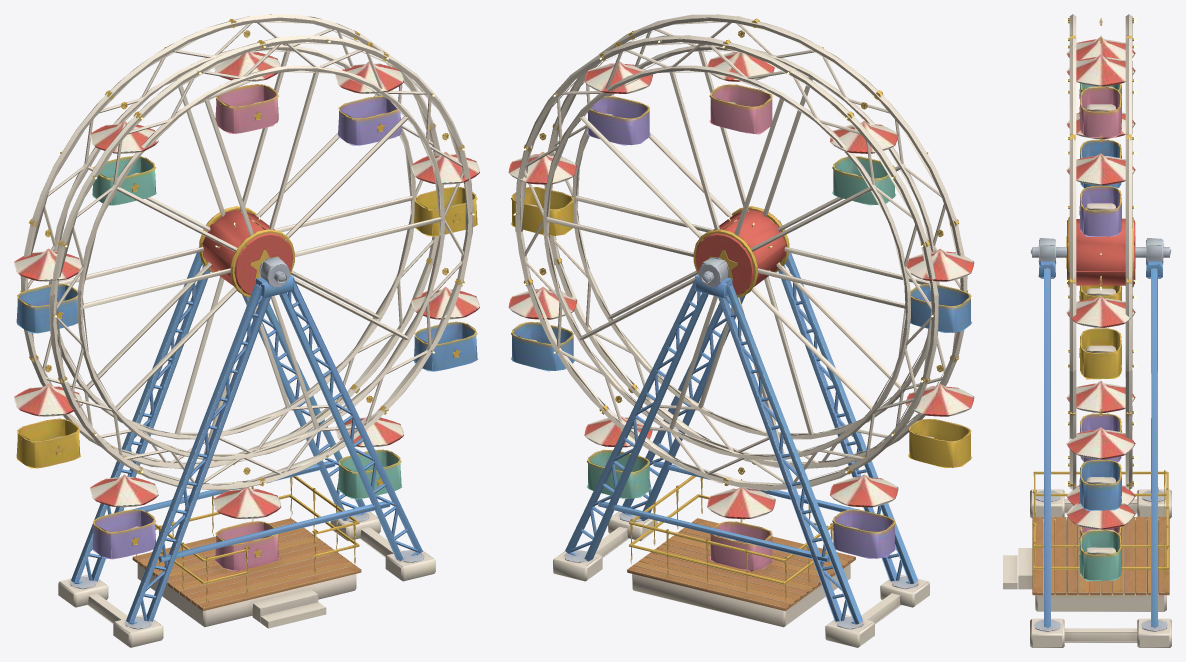
File: noria.glb
3 views of the same model, side by side, from view 1: azimuth 30°, elevation 25°; view 2: azimuth 150°, elevation 25°; view 3: azimuth 270°, elevation 25° (orthographic). The views are drawn at different scales.
Parts seen in each view (by area): view 1: ferris-wheel_body; view 2: ferris-wheel_body; view 3: ferris-wheel_body.
Part boxes in pixels (x1,y1,x2,y2): ferris-wheel_body: [14, 14, 479, 647]; ferris-wheel_body: [508, 14, 974, 647]; ferris-wheel_body: [1003, 14, 1171, 647].
Bounding box in the file's own units: 10.11 × 11.69 × 3.31.
Materials: 3 (2 with a texture image).
